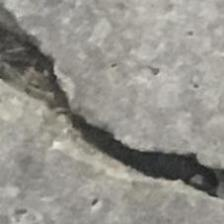Crack: (0, 2, 224, 206)
